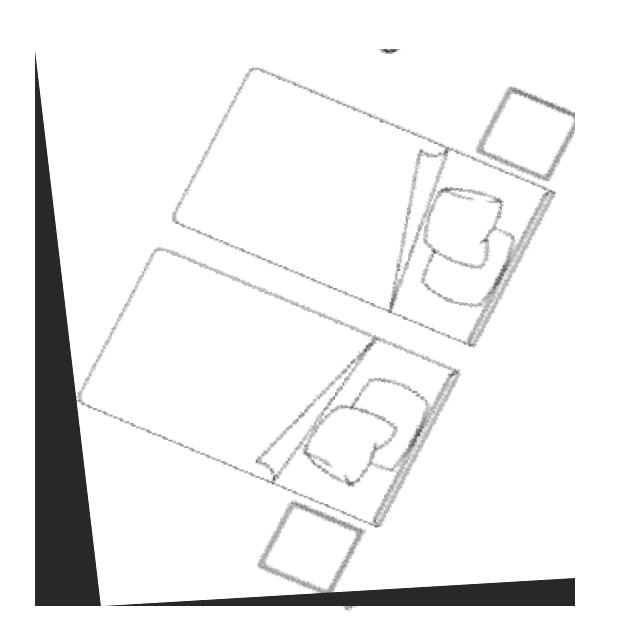bed: (35, 49, 575, 606)
